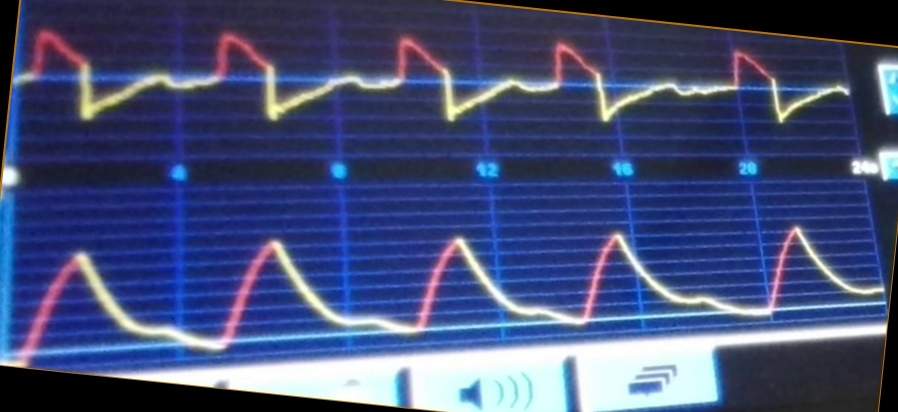Ineffective_effort Flow: (23, 23, 851, 135)
Ineffective_effort Volume: (14, 221, 884, 351)
